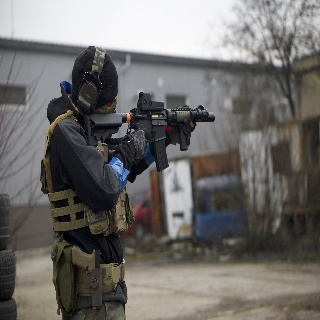rifle: (80, 92, 217, 172)
